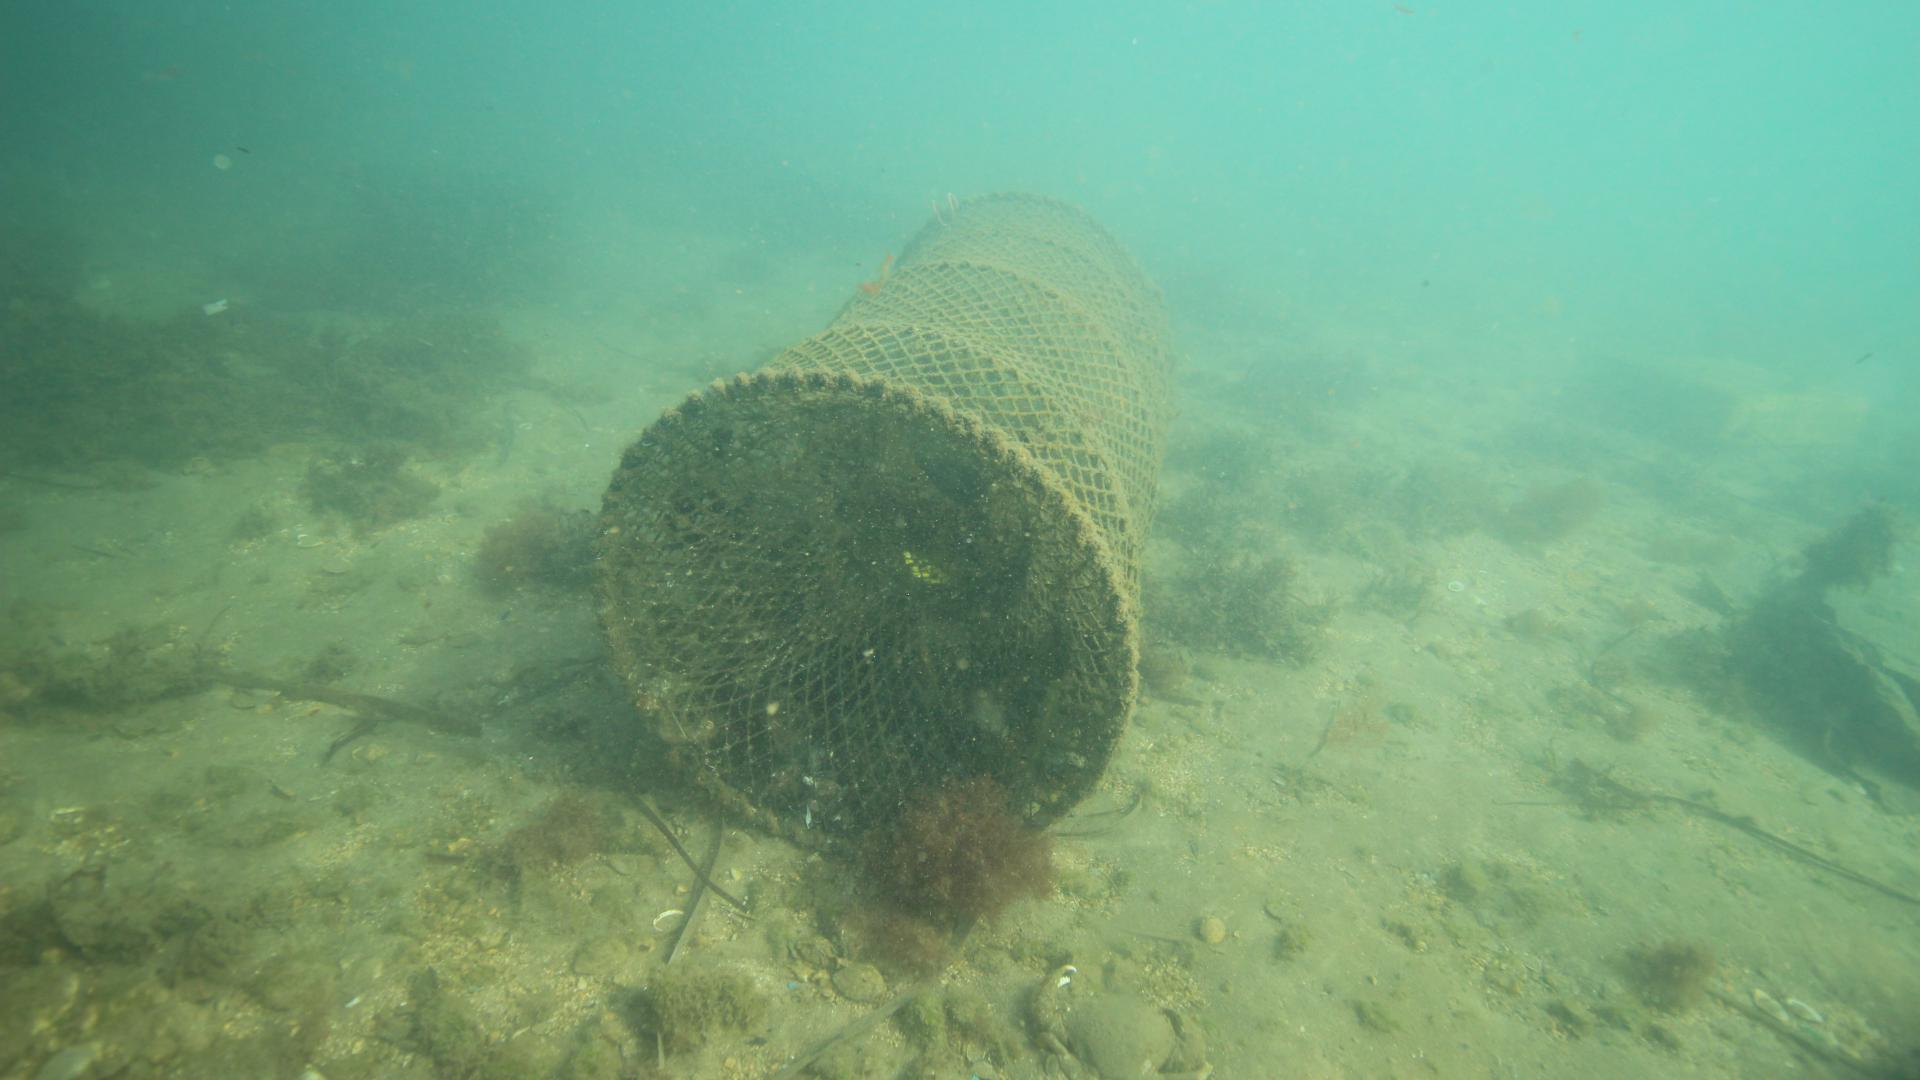spring fish trap: (588, 186, 1178, 851)
